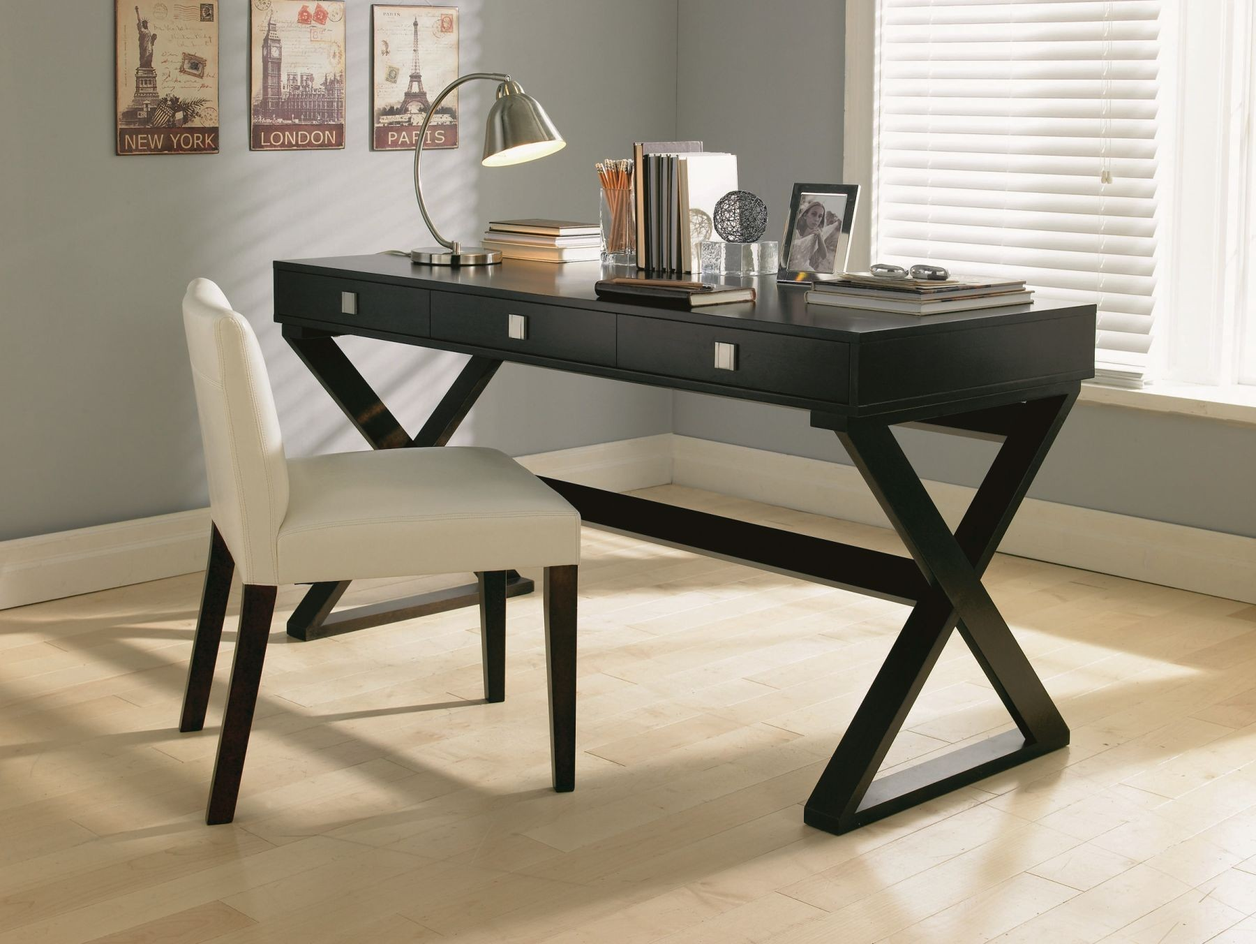not a gesture sign: (232, 447, 1255, 943), (528, 422, 1078, 584), (461, 360, 846, 459)
